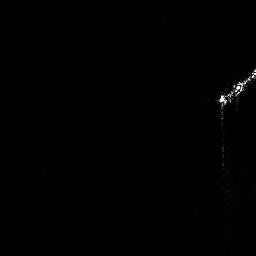ship: (220, 65, 256, 104)
